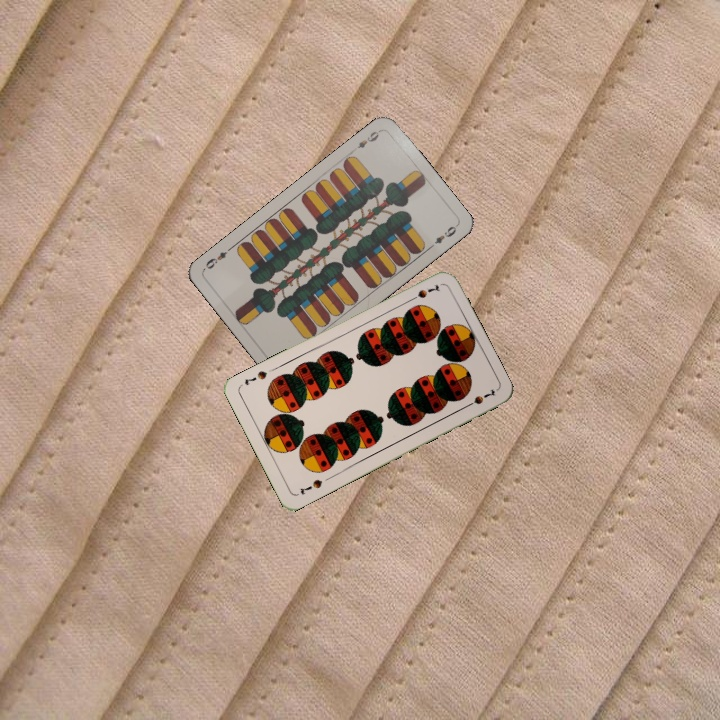E9: (348, 126, 383, 155)
S7: (405, 280, 442, 304), (295, 475, 325, 497)
